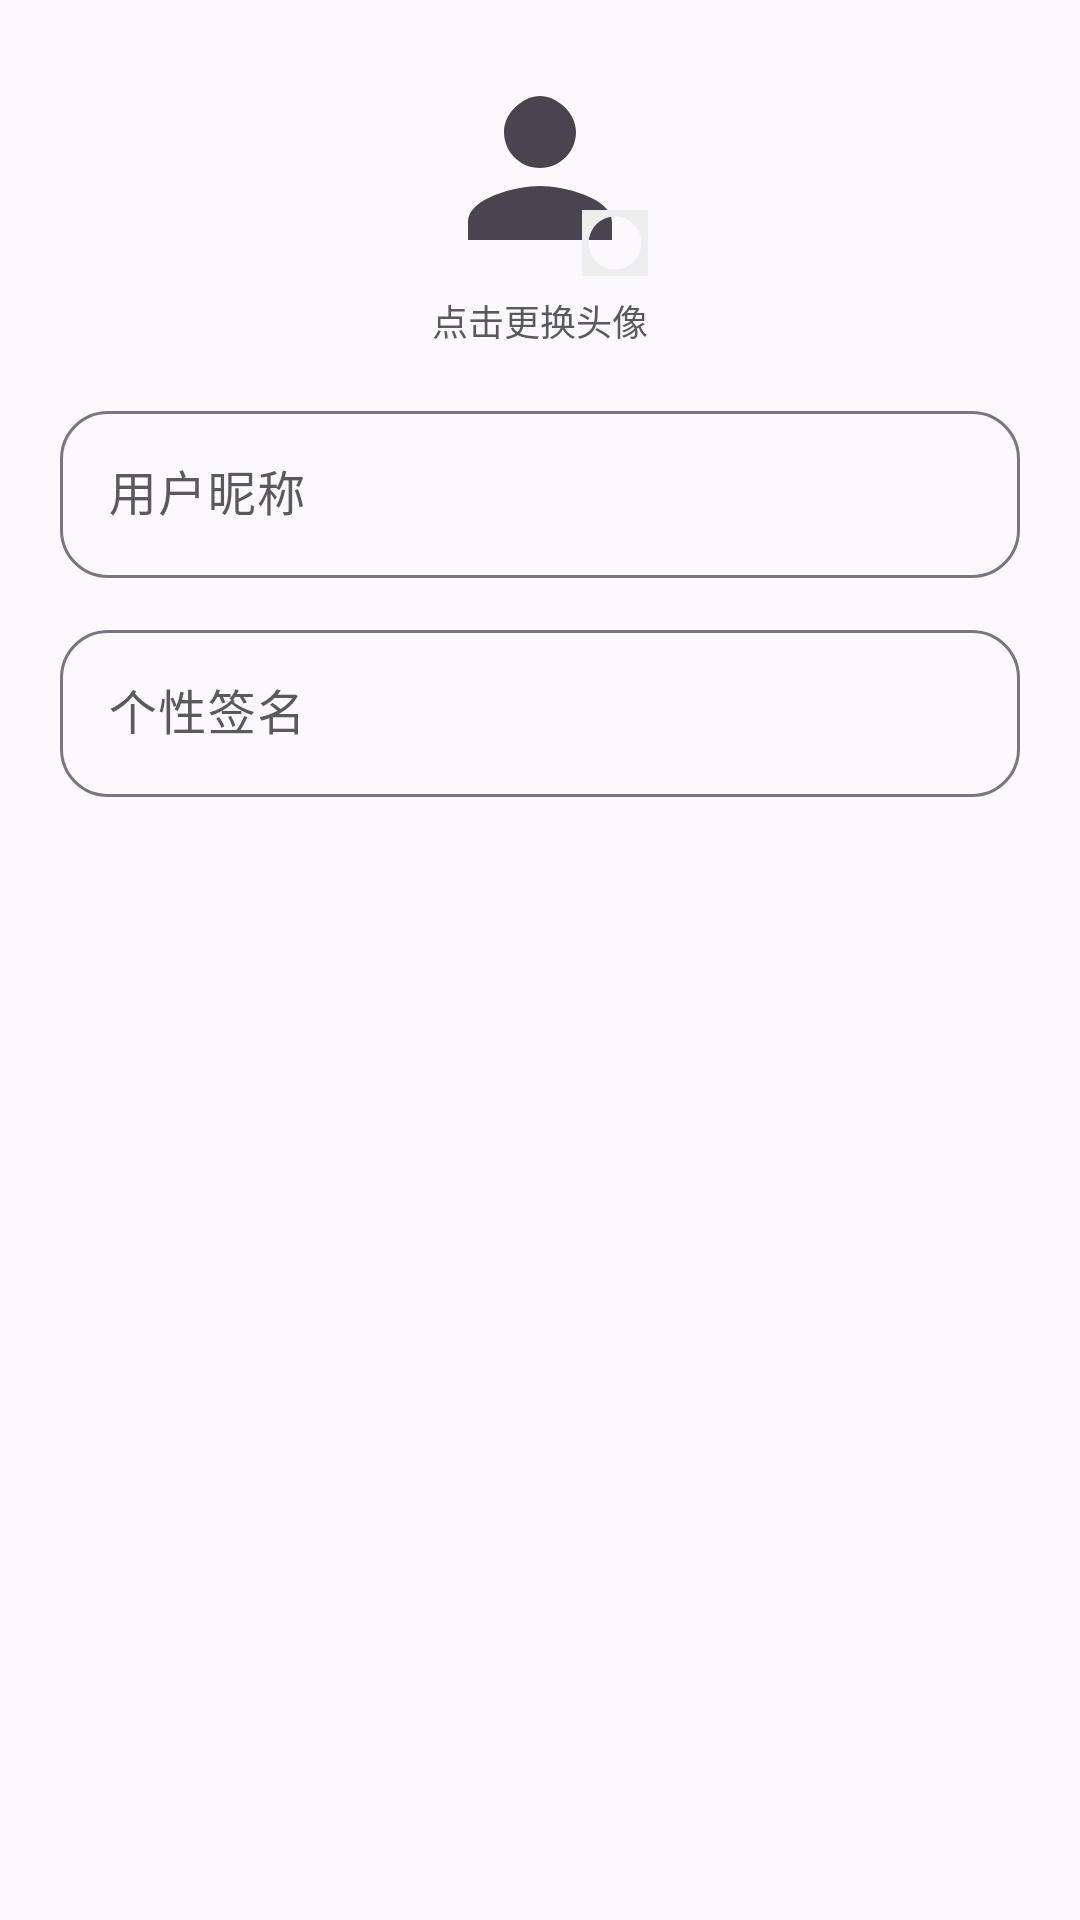

Locate icon controls on the screen. Image size 1080px x 1920px, boxes as (x1, y1, x2, y2).
person: (468, 96, 612, 240)
